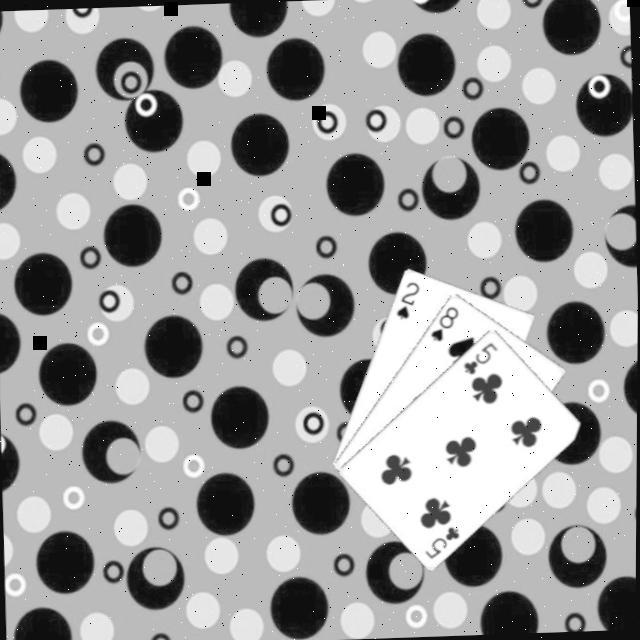2S: (393, 279, 425, 324)
5C: (462, 340, 503, 379), (424, 524, 466, 562)
8S: (428, 304, 465, 346)
